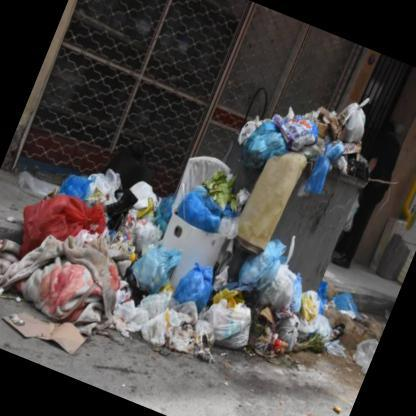Garbage: (233, 54, 392, 183), (18, 160, 180, 275), (73, 155, 181, 290), (211, 254, 316, 362), (290, 278, 362, 364), (160, 258, 224, 344), (230, 98, 296, 172), (177, 178, 247, 235)
